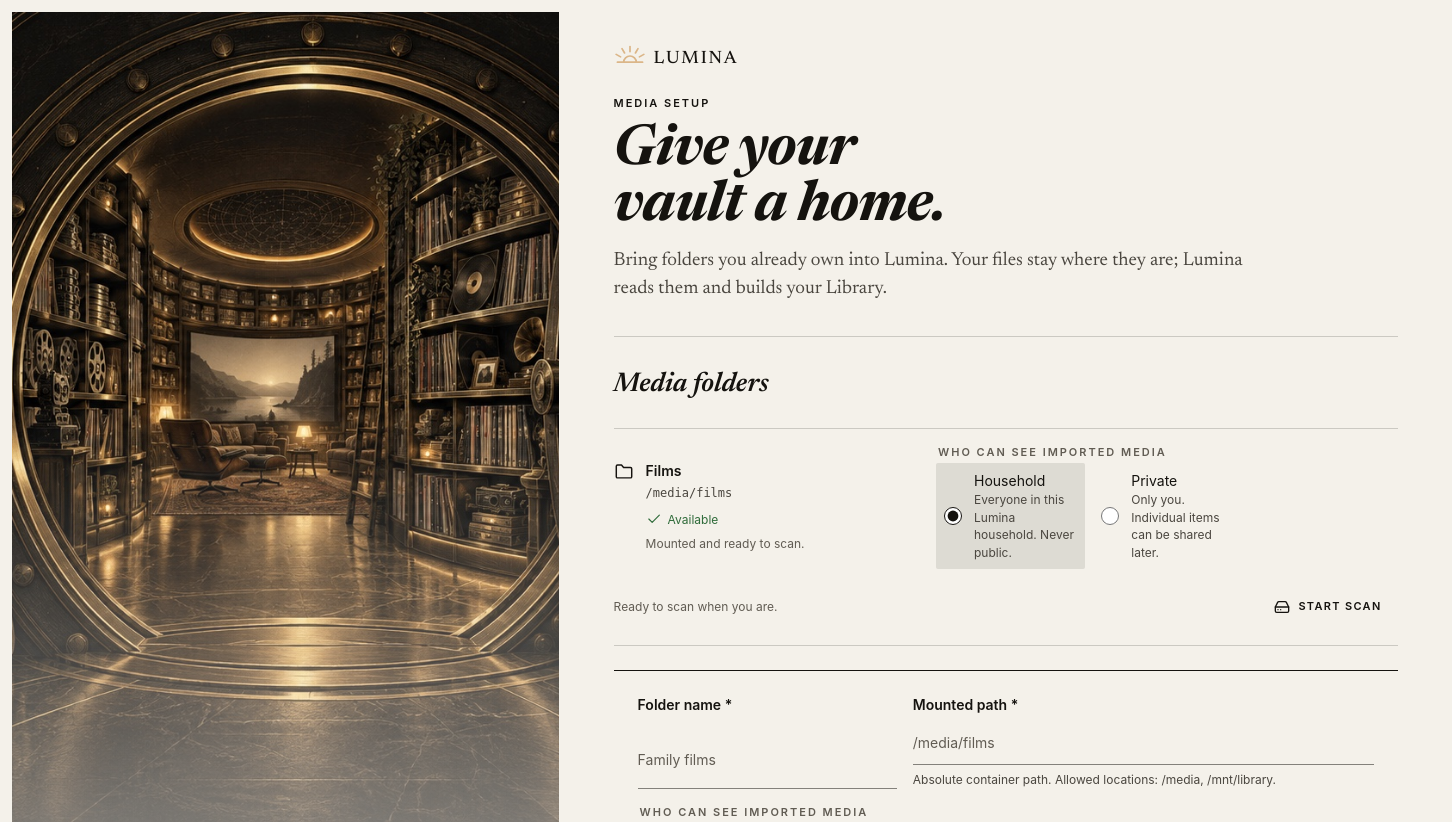
Test: admin vault setup › recovers an import committed despite a lost start response
What coordinates should you click on to do the following:
click the button "Start scan"
I would click on:
 (1328, 607)
Its box is left=1258, top=585, right=1398, bottom=629.
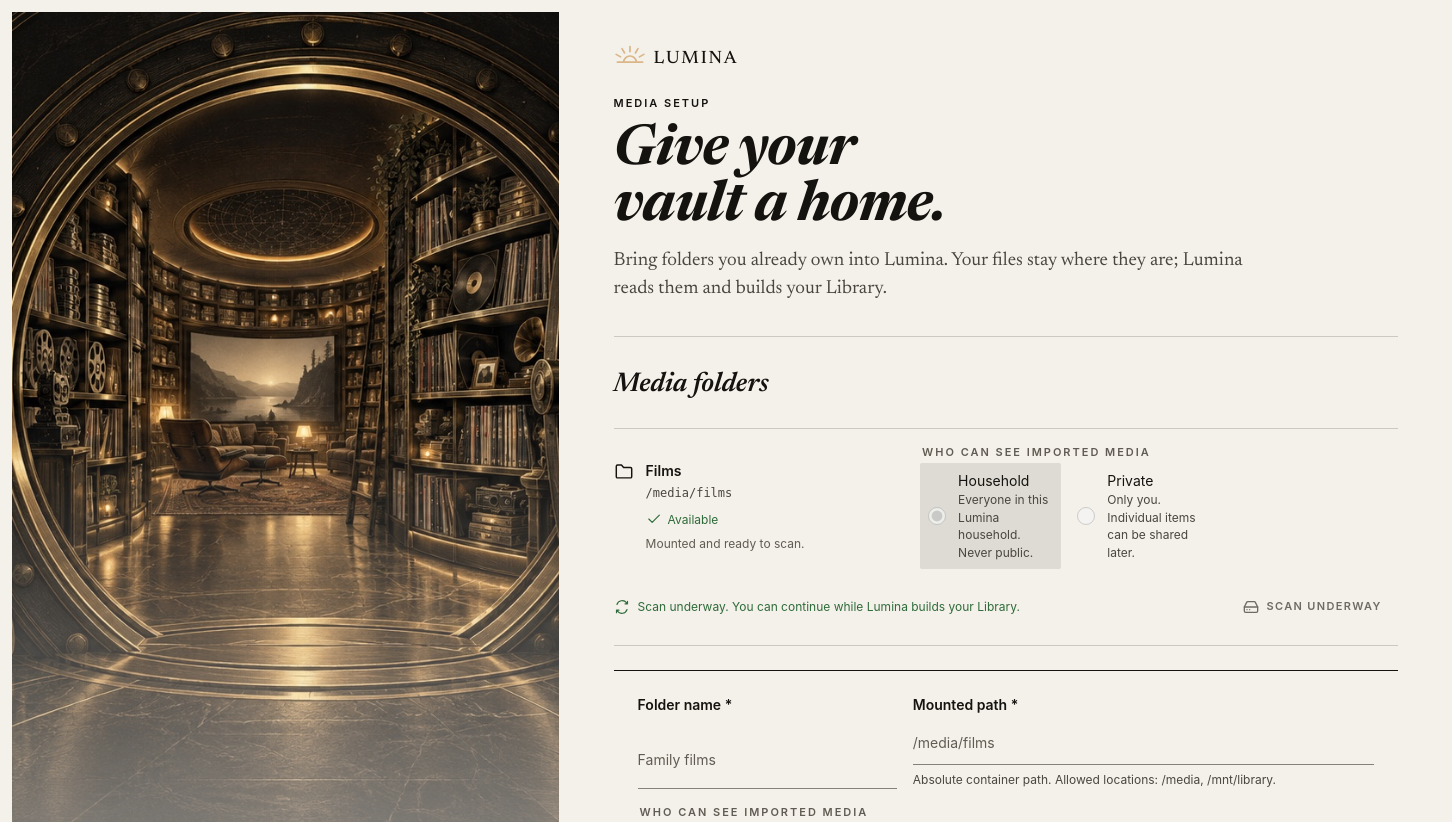
expect the button "Scan underway" is disabled: met, box left=1227, top=585, right=1398, bottom=629
